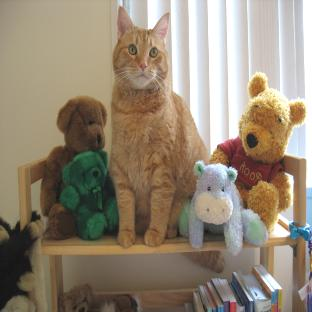Animal: (110, 7, 210, 247)
